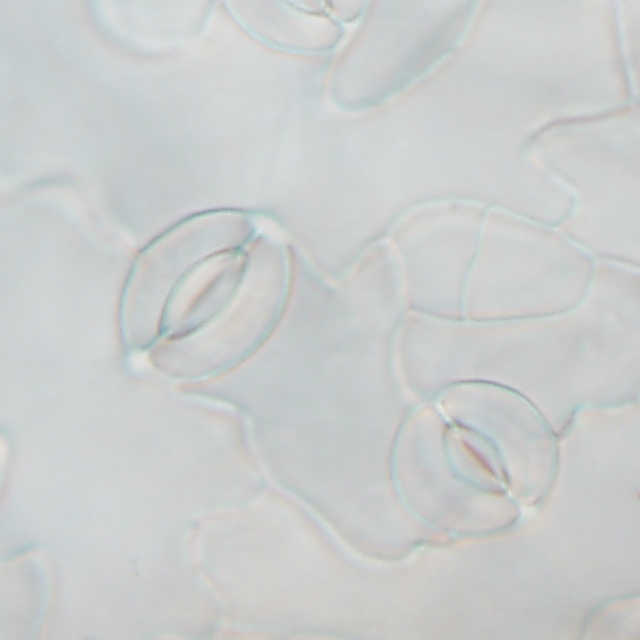center: (158, 247, 248, 340), (442, 422, 509, 493), (263, 24, 329, 32), (605, 49, 640, 52)
stomata-huw1: (120, 210, 292, 381), (391, 381, 559, 537), (222, 1, 370, 55), (617, 0, 639, 101)
